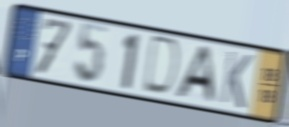1: (121, 31, 142, 91)
5: (74, 23, 109, 88)
7: (35, 15, 73, 78)
A: (172, 44, 218, 106)
D: (140, 33, 182, 100)
K: (218, 48, 255, 112)
